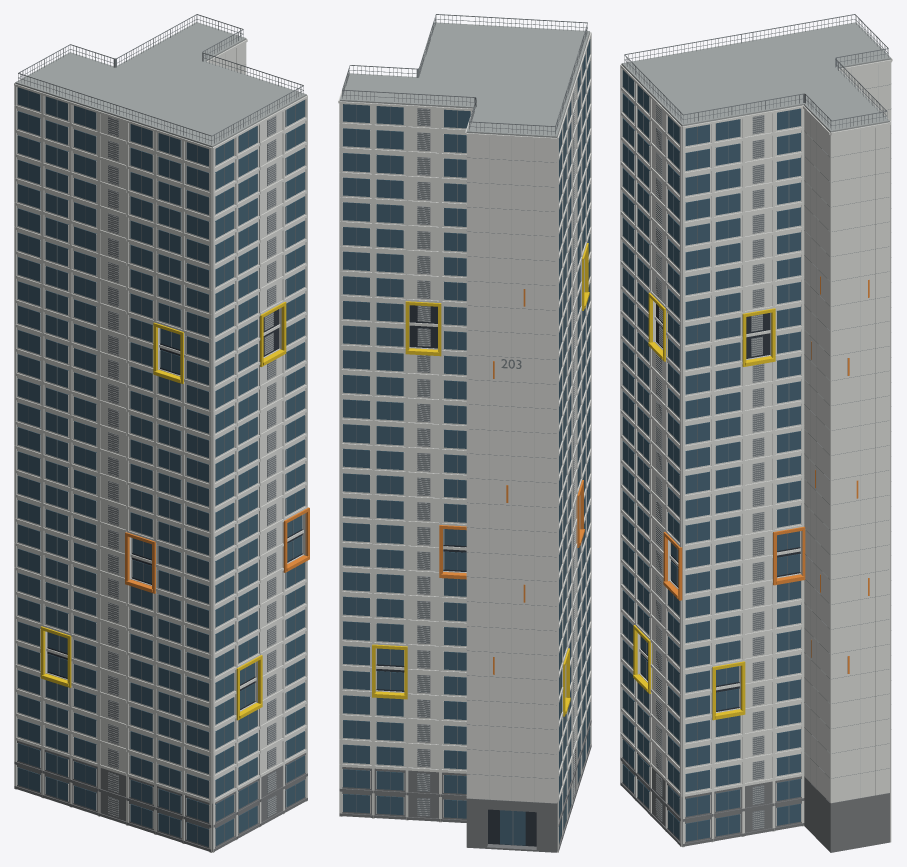
The model's file is bespoke-songpa-helio-city-203.glb.
3 views of the same model, side by side, from view 1: azimuth 30°, elevation 25°; view 2: azimuth 150°, elevation 25°; view 3: azimuth 270°, elevation 25° (orthographic). The views are drawn at different scales.
Parts seen in each view (by area): view 1: Helio203_editable_Helio203_dark_blue_grey_glazing, Helio203_editable_Helio203_white_slab_frames, Helio203_editable_Helio203_grey_service_grille, Helio203_editable_Helio203_low_roof_deck, Helio203_editable_Helio203_dark_grey_twofloor_base, Helio203_editable_Helio203_blankwall_grey_panels, Helio203_editable_Helio203_yellow_projecting_rectangular_fra, Helio203_editable_Helio203_orange_narrow_accent, Helio203_editable_Helio203_deep_shaded_frame_recess; view 2: Helio203_editable_Helio203_white_slab_frames, Helio203_editable_Helio203_dark_blue_grey_glazing, Helio203_editable_Helio203_grey_service_grille, Helio203_editable_Helio203_low_roof_deck, Helio203_editable_Helio203_blankwall_grey_panels, Helio203_editable_Helio203_dark_grey_twofloor_base, Helio203_editable_Helio203_yellow_projecting_rectangular_fra, Helio203_editable_Helio203_deep_shaded_frame_recess, Helio203_editable_Helio203_orange_narrow_accent; view 3: Helio203_editable_Helio203_white_slab_frames, Helio203_editable_Helio203_dark_blue_grey_glazing, Helio203_editable_Helio203_grey_service_grille, Helio203_editable_Helio203_low_roof_deck, Helio203_editable_Helio203_dark_grey_twofloor_base, Helio203_editable_Helio203_blankwall_grey_panels, Helio203_editable_Helio203_yellow_projecting_rectangular_fra, Helio203_editable_Helio203_orange_narrow_accent, Helio203_editable_Helio203_deep_shaded_frame_recess.
Part boxes in pixels (x1,y1,x2,y2): Helio203_editable_Helio203_dark_blue_grey_glazing: [17, 87, 304, 846]; Helio203_editable_Helio203_white_slab_frames: [14, 38, 307, 852]; Helio203_editable_Helio203_grey_service_grille: [18, 14, 303, 843]; Helio203_editable_Helio203_low_roof_deck: [15, 22, 306, 147]; Helio203_editable_Helio203_dark_grey_twofloor_base: [14, 740, 307, 852]; Helio203_editable_Helio203_blankwall_grey_panels: [108, 48, 276, 816]; Helio203_editable_Helio203_yellow_projecting_rectangular_fra: [40, 302, 286, 720]; Helio203_editable_Helio203_orange_narrow_accent: [125, 507, 309, 593]; Helio203_editable_Helio203_deep_shaded_frame_recess: [47, 309, 302, 710]; Helio203_editable_Helio203_white_slab_frames: [338, 23, 591, 852]; Helio203_editable_Helio203_dark_blue_grey_glazing: [343, 39, 590, 845]; Helio203_editable_Helio203_grey_service_grille: [342, 14, 588, 844]; Helio203_editable_Helio203_low_roof_deck: [340, 22, 589, 137]; Helio203_editable_Helio203_blankwall_grey_panels: [417, 87, 575, 815]; Helio203_editable_Helio203_dark_grey_twofloor_base: [339, 720, 591, 852]; Helio203_editable_Helio203_yellow_projecting_rectangular_fra: [372, 243, 589, 716]; Helio203_editable_Helio203_deep_shaded_frame_recess: [376, 305, 536, 846]; Helio203_editable_Helio203_orange_narrow_accent: [439, 289, 584, 674]; Helio203_editable_Helio203_white_slab_frames: [620, 23, 892, 847]; Helio203_editable_Helio203_dark_blue_grey_glazing: [622, 70, 800, 841]; Helio203_editable_Helio203_grey_service_grille: [624, 14, 890, 839]; Helio203_editable_Helio203_low_roof_deck: [621, 22, 891, 132]; Helio203_editable_Helio203_dark_grey_twofloor_base: [620, 737, 889, 852]; Helio203_editable_Helio203_blankwall_grey_panels: [656, 65, 878, 829]; Helio203_editable_Helio203_yellow_projecting_rectangular_fra: [633, 292, 775, 720]; Helio203_editable_Helio203_orange_narrow_accent: [663, 276, 869, 673]; Helio203_editable_Helio203_deep_shaded_frame_recess: [640, 304, 800, 711].
Size of the model in its own units: 26.57 by 82.2 by 27.77.
